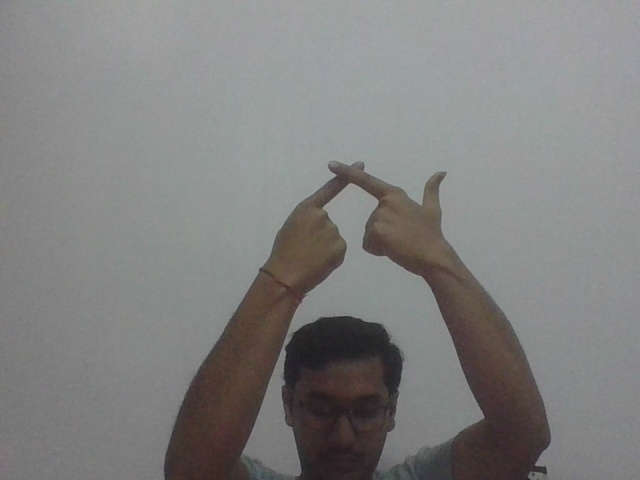J: (279, 158, 450, 274)
